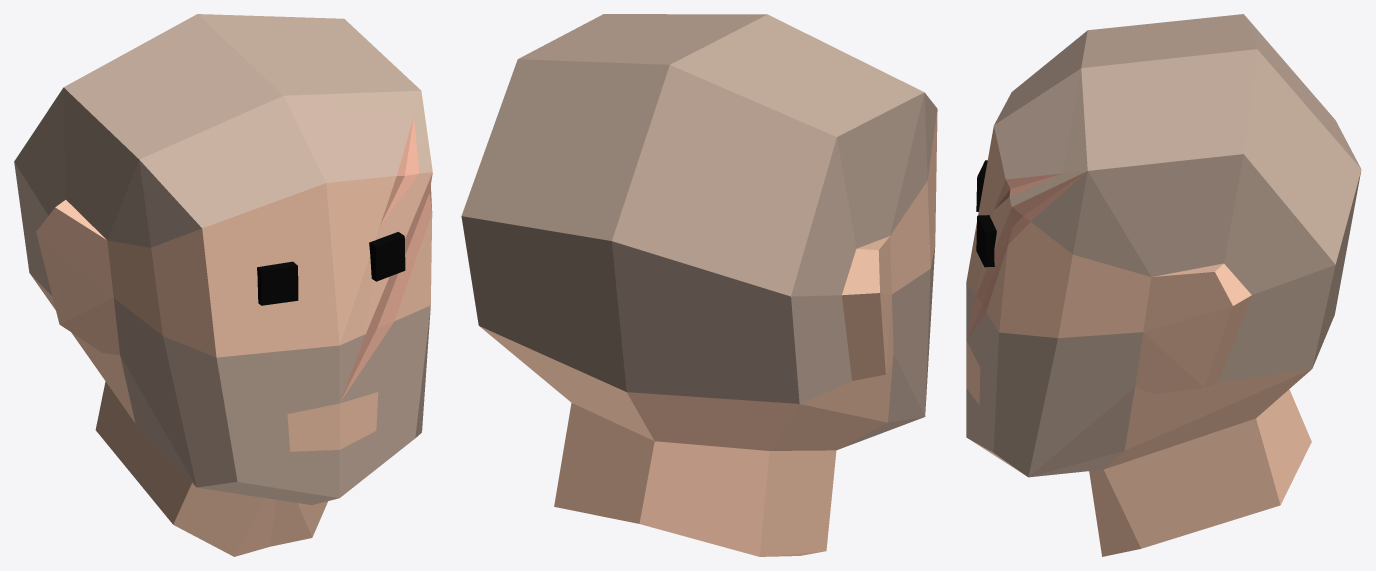
The model's file is Chr_Head_Male_02_Static.fbx.
3 renders of one model, left to right at view 1: azimuth 30°, elevation 25°; view 2: azimuth 150°, elevation 25°; view 3: azimuth 270°, elevation 25°, orthographic. The views are drawn at different scales.
Parts seen in each view (by area): view 1: Chr_Head_Male_02_Static; view 2: Chr_Head_Male_02_Static; view 3: Chr_Head_Male_02_Static.
Boxes of the visible parts, x1,y1,x2,y2 form: Chr_Head_Male_02_Static: [14, 14, 432, 556]; Chr_Head_Male_02_Static: [461, 14, 937, 556]; Chr_Head_Male_02_Static: [966, 14, 1361, 556].
Bounding box in the file's own units: 0.2661 × 0.3523 × 0.2574.
